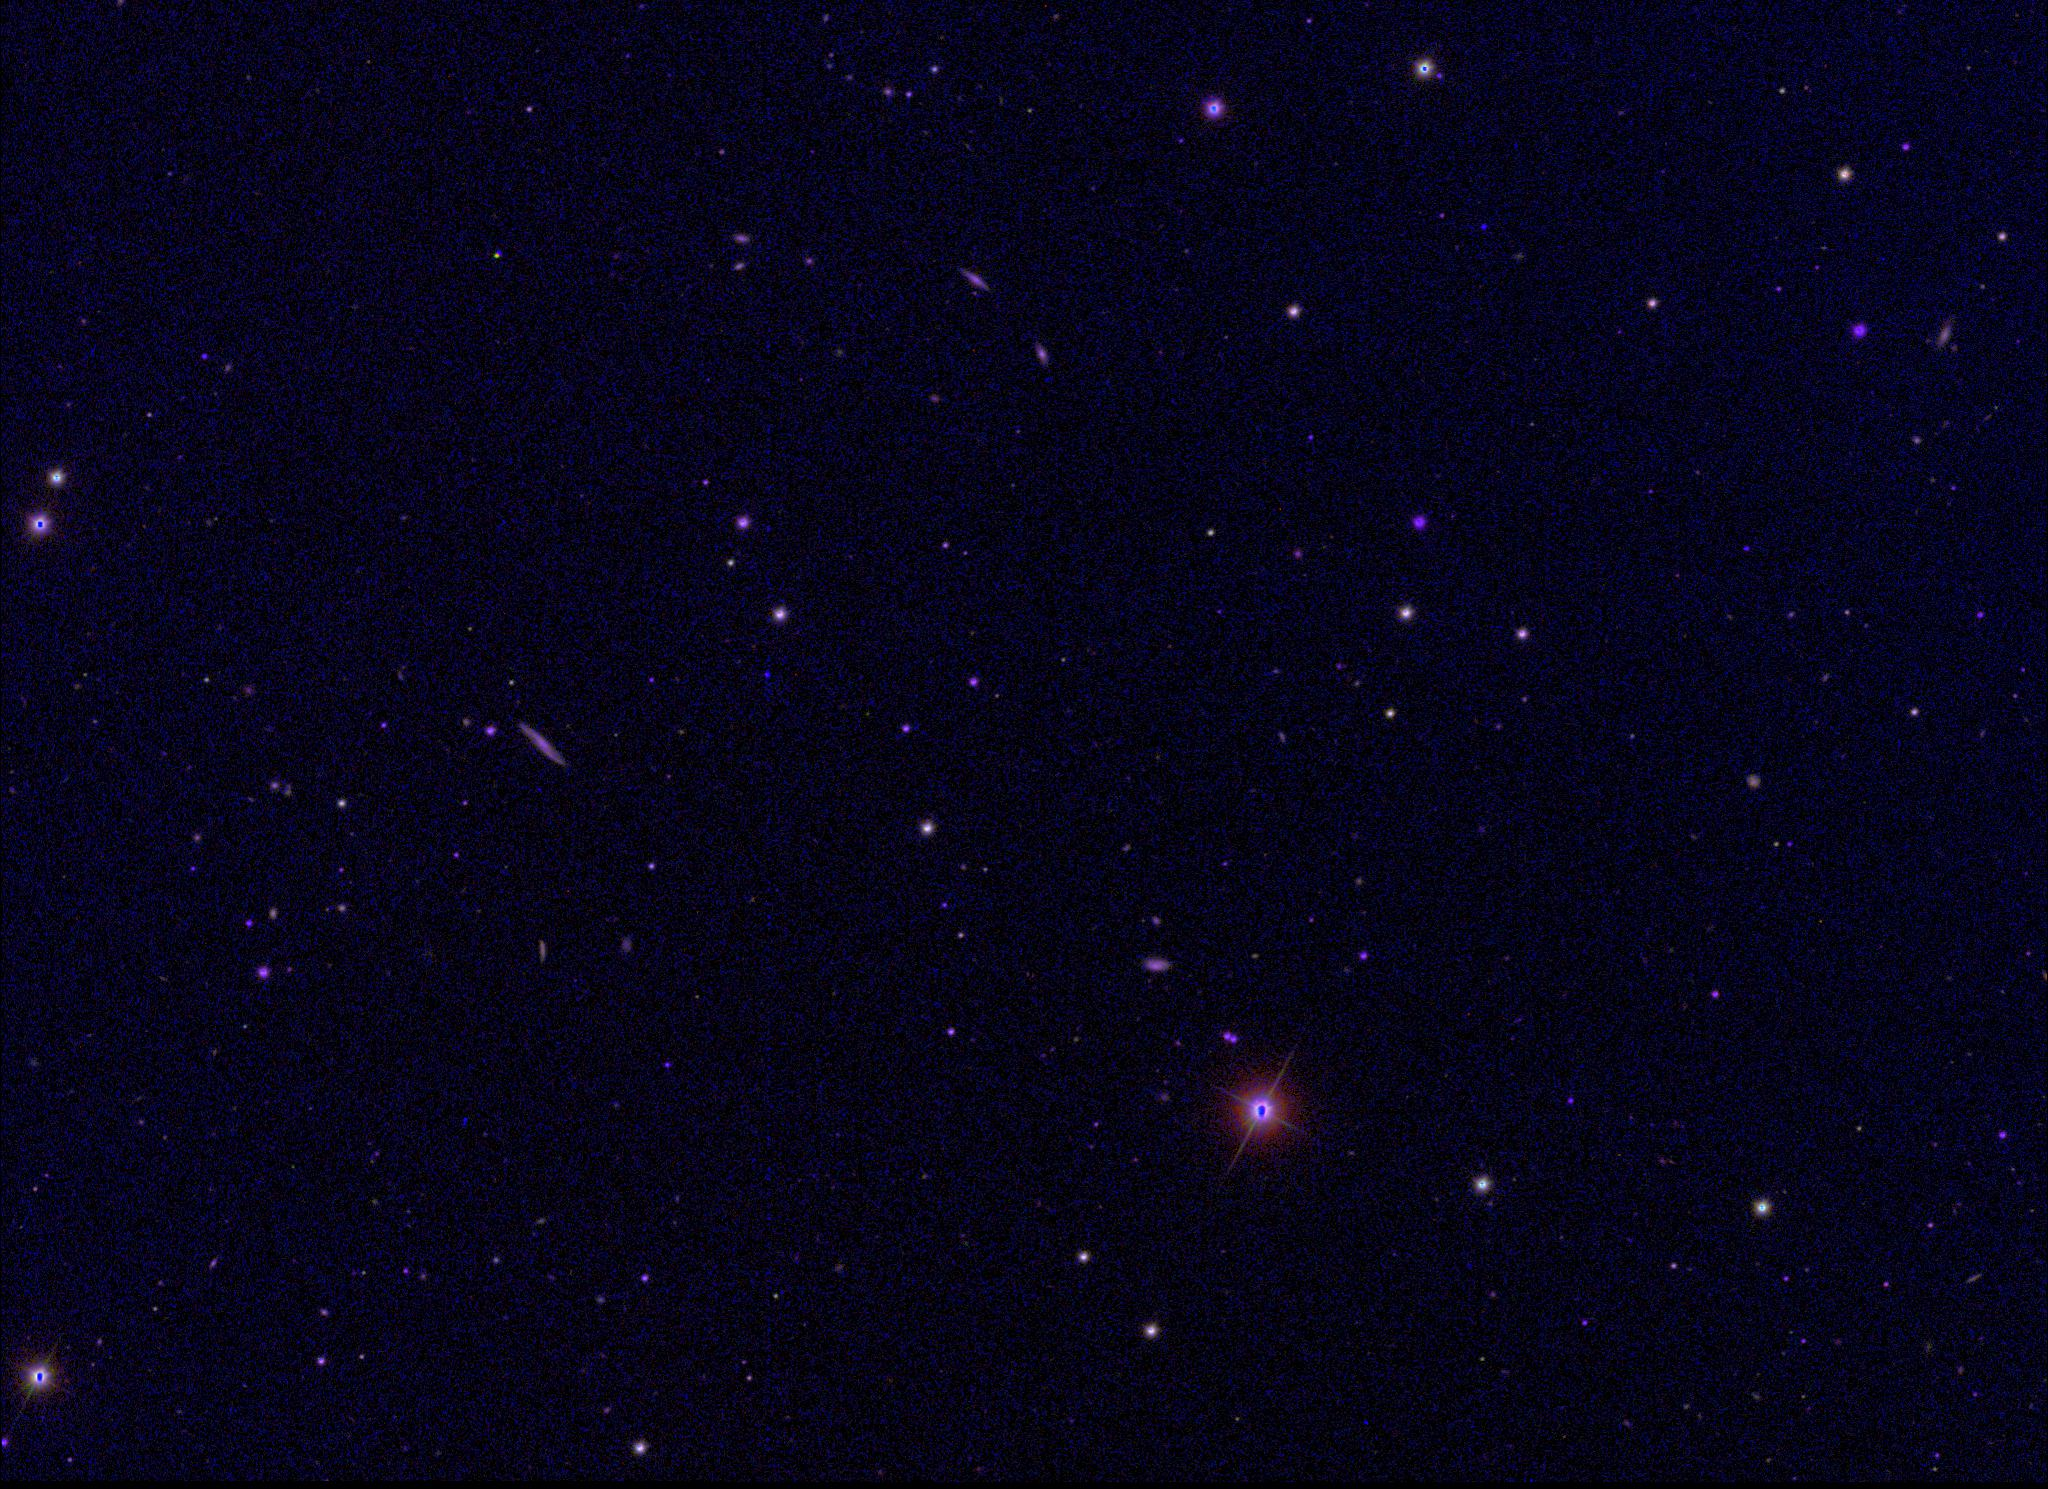L: (1474, 220, 1488, 234)
